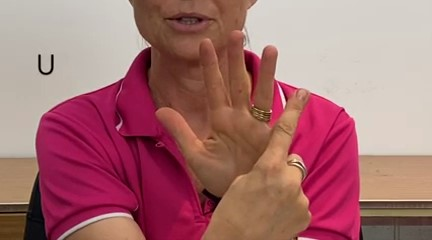U: (151, 25, 333, 240)
